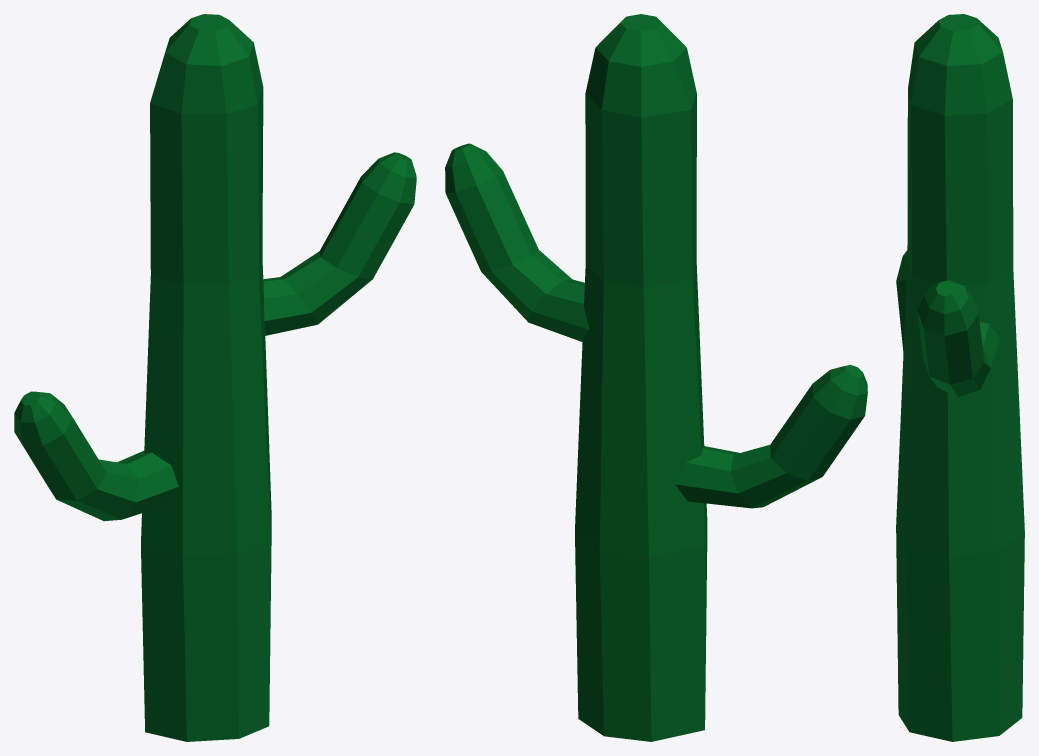
File: Cactus_1.fbx
3 views of the same model, side by side, from view 1: azimuth 30°, elevation 25°; view 2: azimuth 150°, elevation 25°; view 3: azimuth 270°, elevation 25° (orthographic).
Visible parts, largest first — view 1: Cactus_1; view 2: Cactus_1; view 3: Cactus_1.
Boxes of the visible parts, x1,y1,x2,y2 form: Cactus_1: [14, 14, 416, 741]; Cactus_1: [445, 14, 867, 741]; Cactus_1: [896, 14, 1024, 741].
Size of the model in its own units: 205 by 56.1 by 333.
